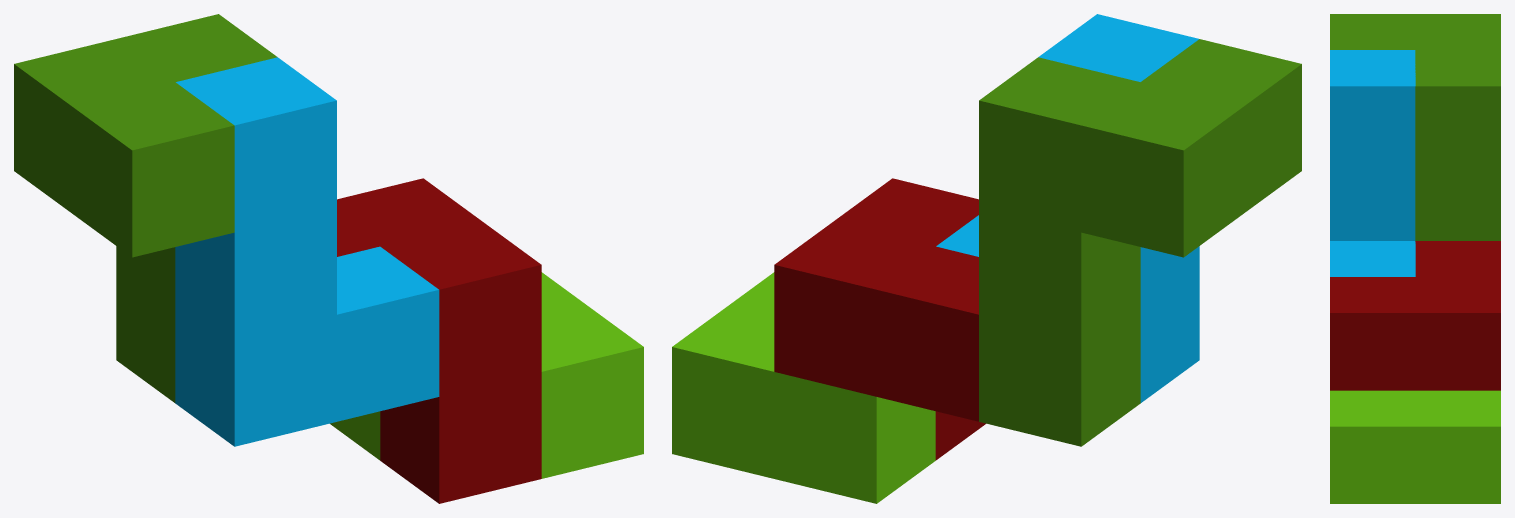
3 views of the same model, side by side, from view 1: azimuth 30°, elevation 25°; view 2: azimuth 150°, elevation 25°; view 3: azimuth 270°, elevation 25° (orthographic). The views are drawn at different scales.
Visible parts, largest first — view 1: mergedBlocks(Clone); view 2: mergedBlocks(Clone); view 3: mergedBlocks(Clone).
Part boxes in pixels (x1,y1,x2,y2): mergedBlocks(Clone): (14,14,643,503); mergedBlocks(Clone): (672,14,1301,503); mergedBlocks(Clone): (1330,14,1500,503).
Size of the model in its own units: 5 by 4 by 2.
Materials: 4 (4 with a texture image).
